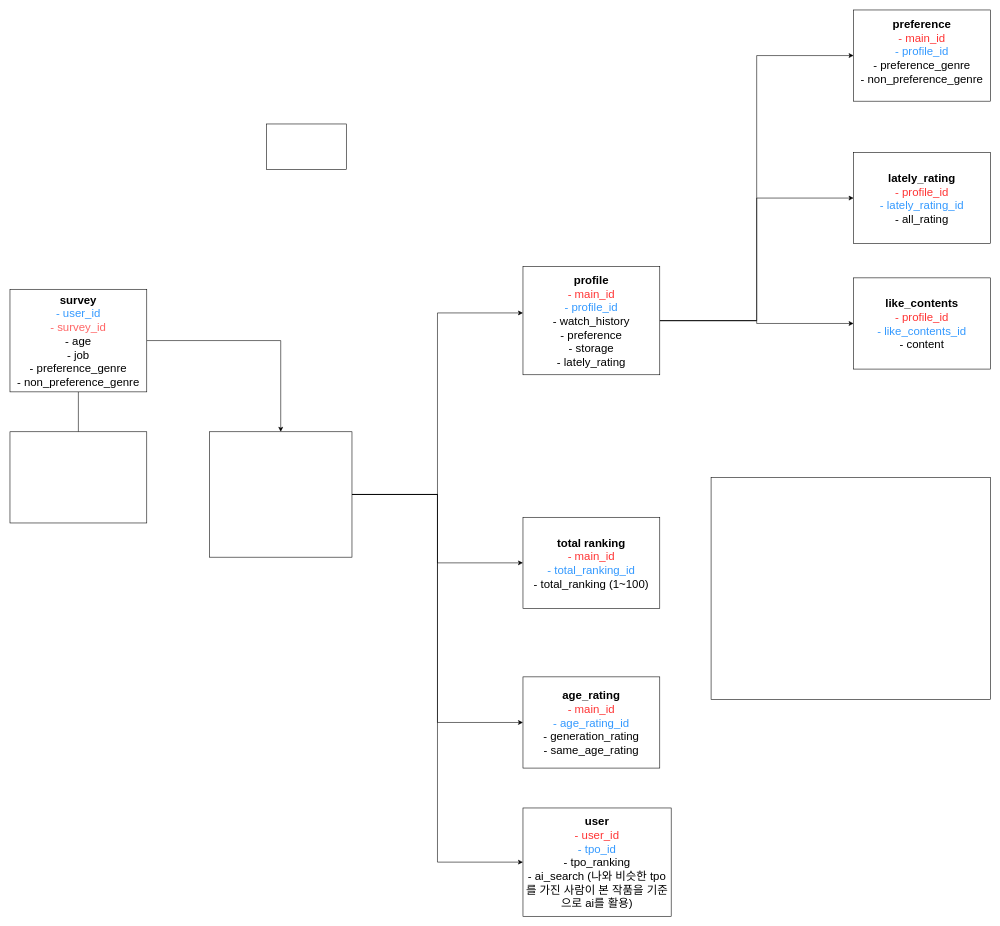
Some shapes in this 1000 by 926 pixel diagram are drawn without their labels. The centre of each missing label's shape, as x and y in pixels:
"content -" belongs at pixel 850 588.
"main - survey_id - main_id - profile - total_ranking - age_rating - TPO" belongs at pixel 280 494.
"user - user_id - email - password - nickname" belongs at pixel 78 477.
"외래키 기본키" belongs at pixel 306 146.
